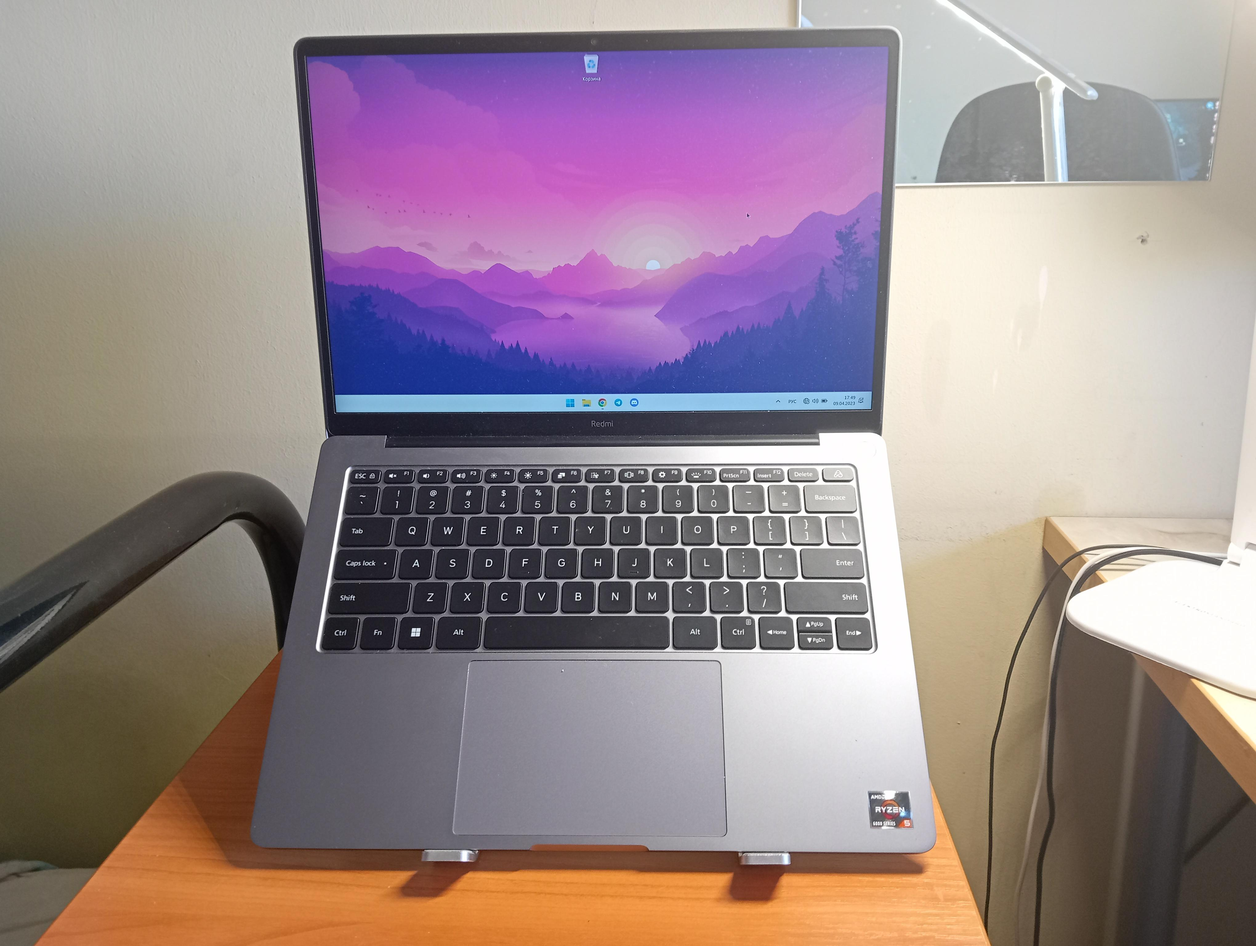monitor: (292, 29, 905, 448)
